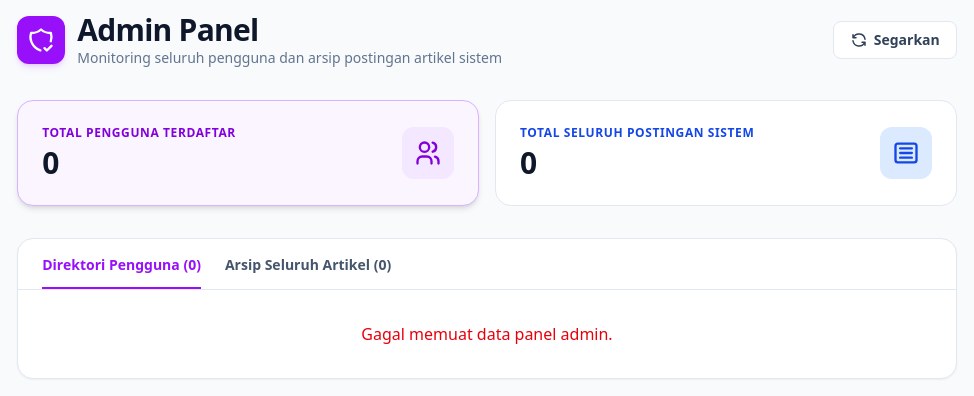
Test case: AdminDashboard › handles error state and refresh
The width and height of the screenshot is (974, 396).
Expected: the text "Gagal memuat data panel admin." is shown, [361,323,613,345]
Click the button "Segarkan": (895, 40) [833,21,957,59]
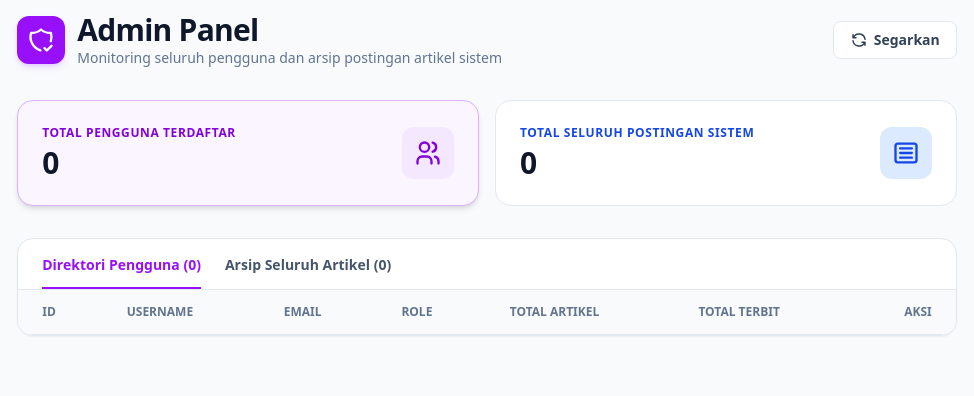
Expected: the text "Gagal memuat data panel admin." is gone
